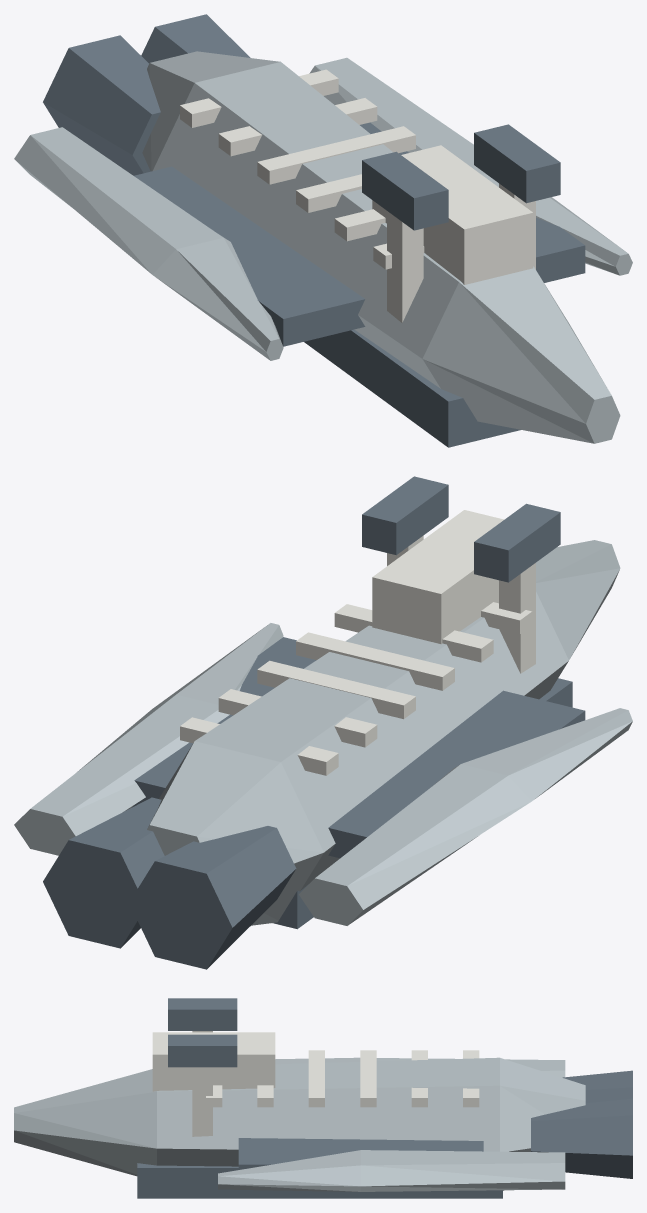
3 views of the same model, one above another, from view 1: azimuth 30°, elevation 25°; view 2: azimuth 150°, elevation 25°; view 3: azimuth 270°, elevation 25° (orthographic). The views are drawn at different scales.
Bounding box in the file's own units: 3.17 × 1.88 × 6.73.
